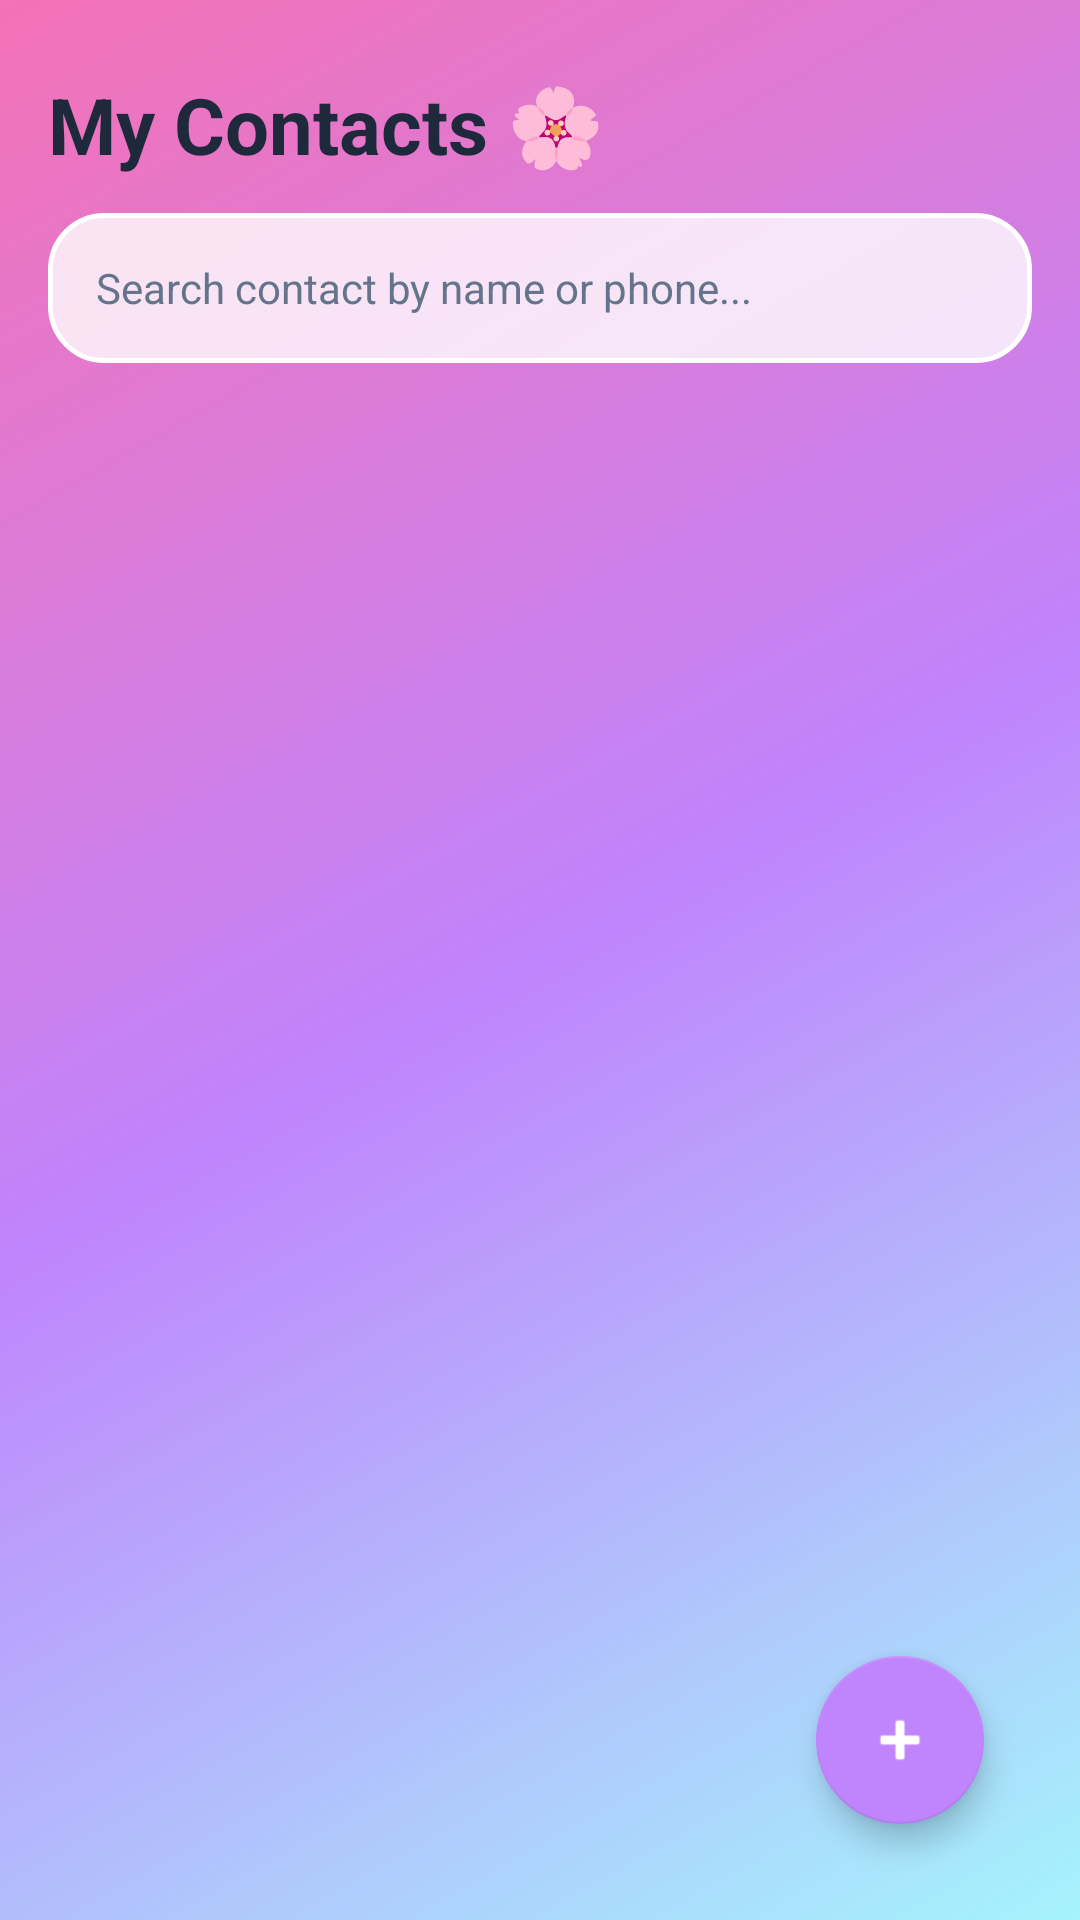

Icons on this 1080×1920 Android screen, each with the point to tap as [x,y]:
Add Contact: [900,1740]
